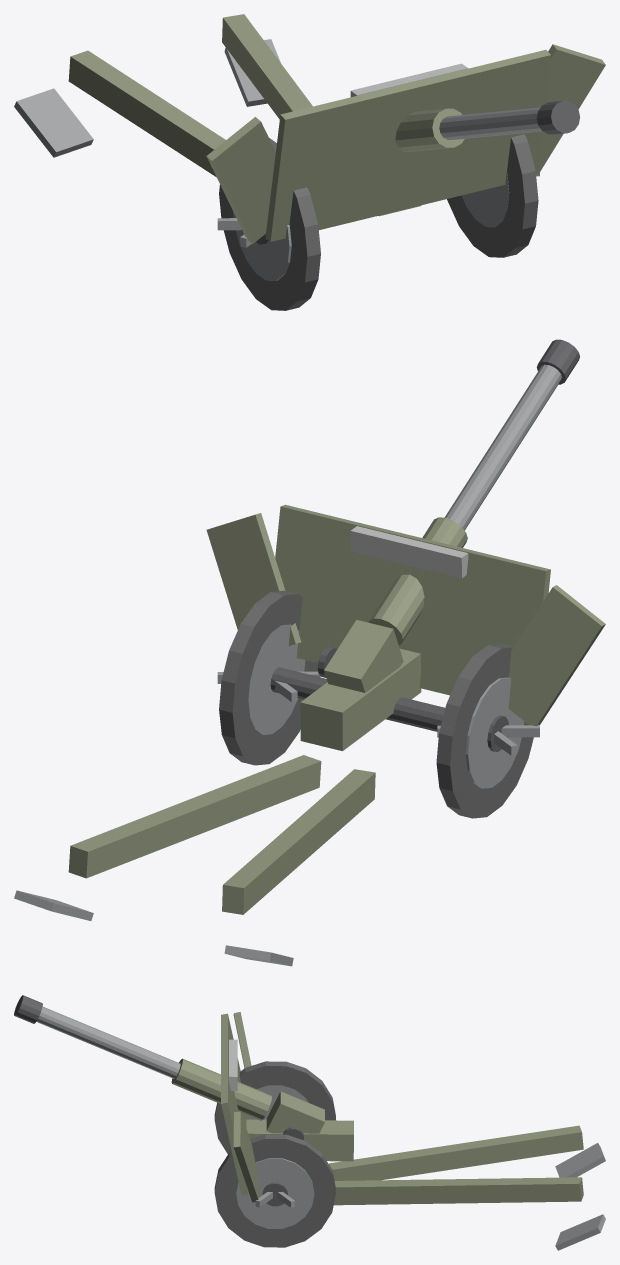
Rendered from artillery.glb.
3 views of the same model, one above another, from view 1: azimuth 30°, elevation 25°; view 2: azimuth 150°, elevation 25°; view 3: azimuth 270°, elevation 25° (orthographic). The views are drawn at different scales.
Parts seen in each view (by area): view 1: Shield, Trail, Wheel, ShieldWingL, Wheel.001, Trail.001, ShieldWingR, Spade, Barrel, Sleeve, WheelRim, WheelRim.001 (+3 smaller); view 2: Shield, Trail.001, ShieldWingL, Wheel.001, Wheel, Trail, Carriage, ShieldWingR, Barrel, Breech, WheelRim, WheelRim.001 (+5 smaller); view 3: Trail.001, Trail, Wheel.001, WheelRim.001, Wheel, Barrel, Sleeve, Carriage, Breech, Shield, ShieldWingR, Spade (+5 smaller).
Part boxes in pixels (x1,y1,x2,y2): Shield: (265, 49, 550, 241); Trail: (68, 50, 225, 176); Wheel: (219, 138, 320, 310); ShieldWingL: (206, 117, 275, 244); Wheel.001: (447, 134, 538, 257); Trail.001: (222, 14, 312, 119); ShieldWingR: (536, 44, 605, 174); Spade: (14, 88, 93, 157); Barrel: (439, 107, 541, 139); Sleeve: (395, 108, 464, 151); WheelRim: (233, 211, 291, 280); WheelRim.001: (461, 172, 509, 227); Shield: (275, 504, 550, 695); Trail.001: (68, 755, 321, 878); ShieldWingL: (508, 585, 605, 726); Wheel.001: (219, 590, 318, 765); Wheel: (436, 643, 533, 818); Trail: (222, 769, 375, 914); Carriage: (300, 648, 421, 751); ShieldWingR: (206, 513, 301, 645); Barrel: (444, 364, 561, 530); Breech: (324, 620, 403, 692); WheelRim: (465, 677, 524, 788); WheelRim.001: (248, 624, 305, 734); Trail.001: (334, 1177, 583, 1205); Trail: (329, 1125, 583, 1180); Wheel.001: (214, 1134, 335, 1247); WheelRim.001: (236, 1158, 314, 1228); Wheel: (214, 1061, 335, 1153); Barrel: (36, 1006, 180, 1078); Sleeve: (171, 1058, 271, 1120); Carriage: (246, 1119, 353, 1161); Breech: (266, 1091, 324, 1133); Shield: (221, 1013, 248, 1194); ShieldWingR: (233, 1111, 258, 1202); Spade: (555, 1143, 605, 1177).
Bounding box in the file's own units: 3.2 × 2.42 × 6.04.
